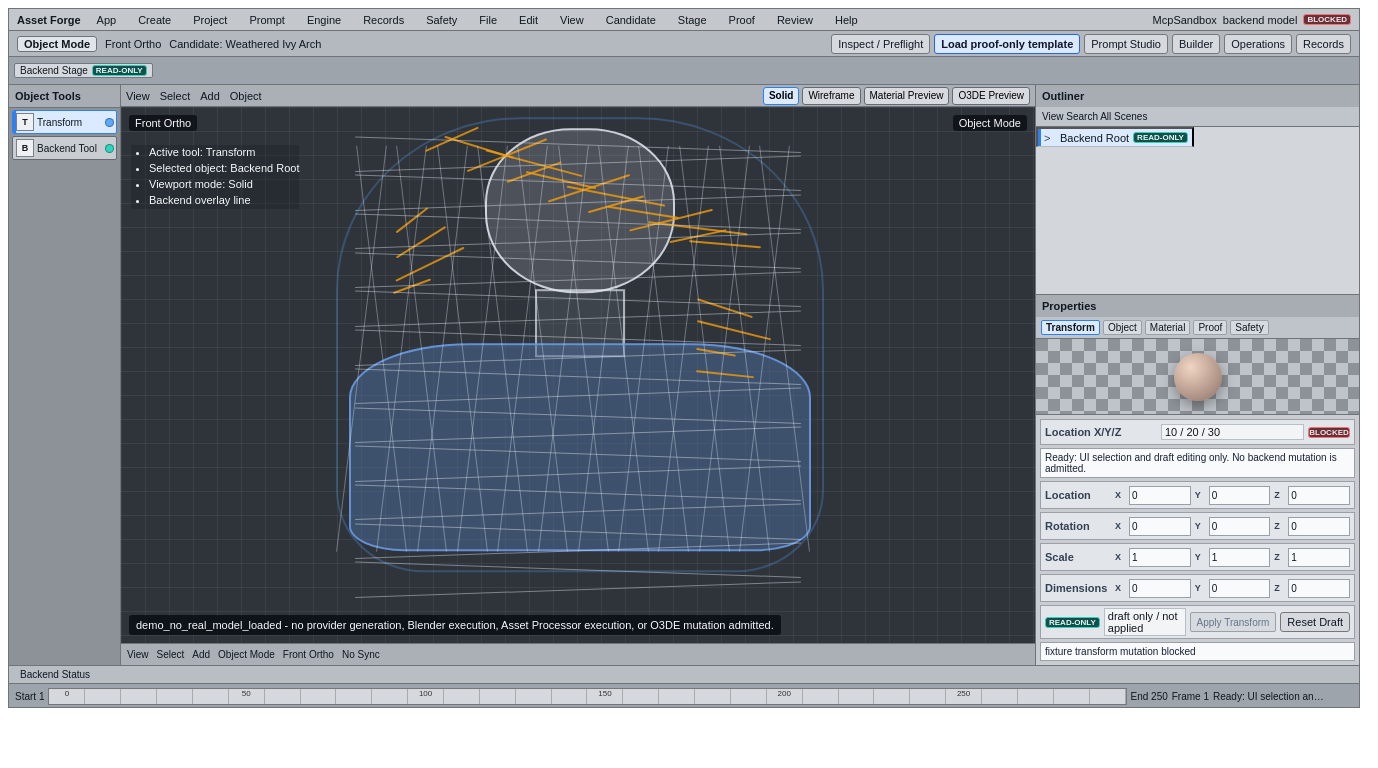
Test: AssetForgeBlenderCockpit › renders workflow stages and bottom status tabs from the backend editor model
Check: the text "Backend Stage" is shown, box [20,65,88,76]
Click the button "Backend Status" at (55, 674), box [15,667,95,682]
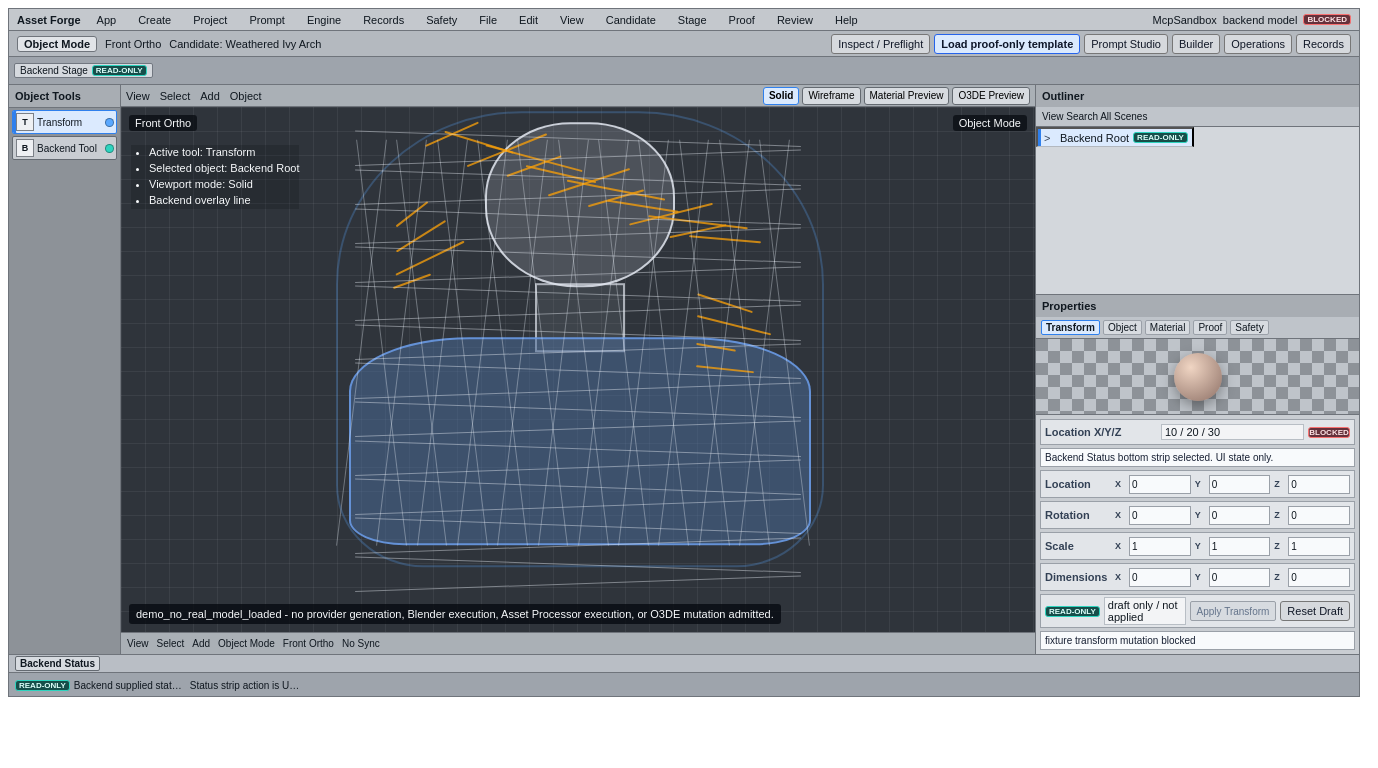
Check: the text "Backend supplied status tab. UI state only." is shown, box [74,680,186,690]
Check: the message shows "Backend Status bottom strip selected", box [1045,452,1273,463]
